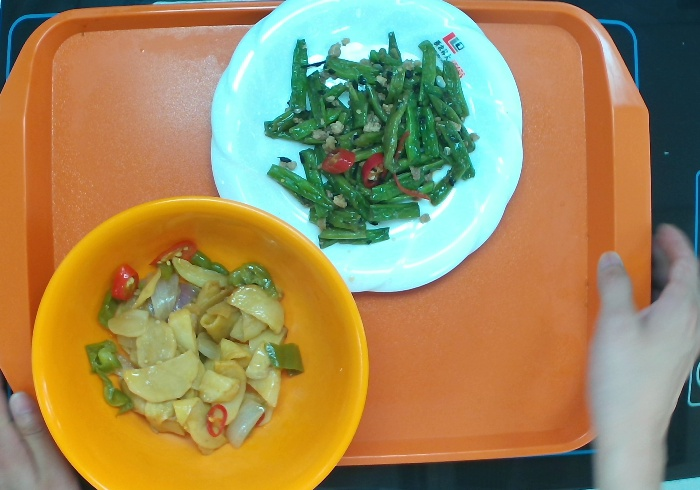ZNLD-Hua_Bian_Wan: (204, 1, 523, 295)
ZNLD-Ju_Se_Tang_Wan: (32, 194, 369, 490)
